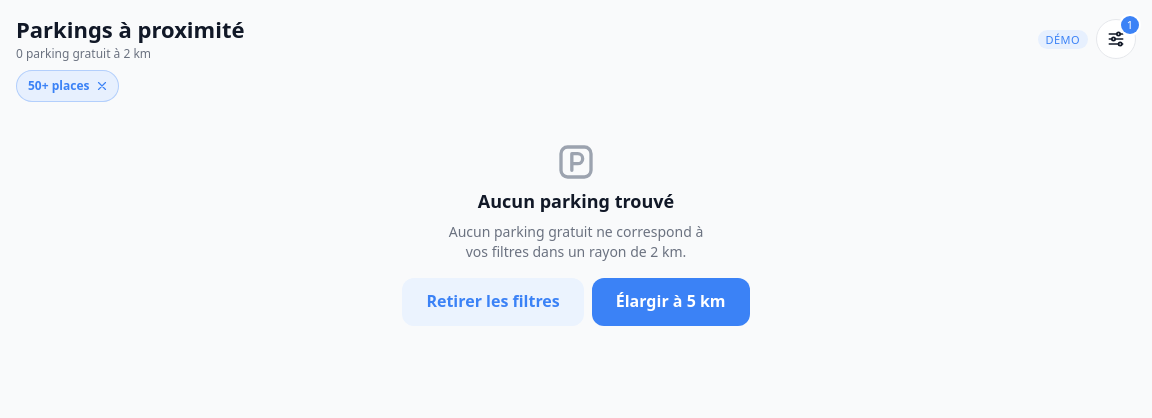
Scenario: ListPage › sans résultat, propose de retirer les filtres ou d’élargir le rayon
Expected: the heading "Aucun parking trouvé" is shown, [478,190,674,214]
Expected: the button "Retirer les filtres" is shown, [402,278,584,326]
Click the button "Élargir à 5 km": {"x": 671, "y": 302} [592,278,750,326]
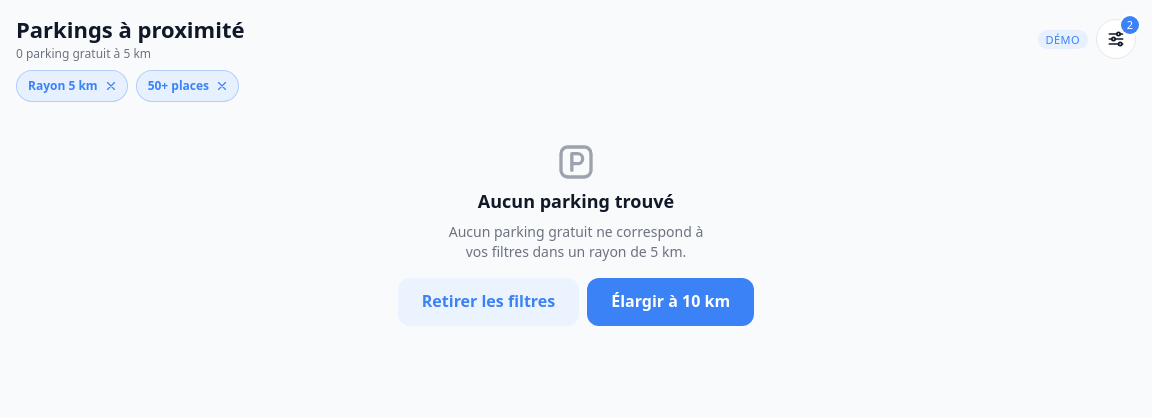
Result: the text "0 parking gratuit à 5 km" is shown at [16,44,151,62]
Click the button "Retirer les filtres": {"x": 488, "y": 302} [398,278,579,326]
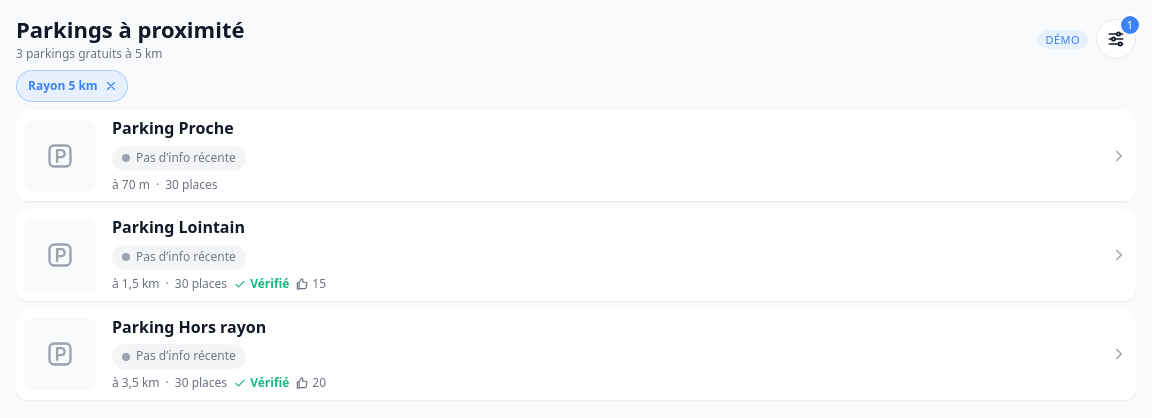
Result: the text "3 parkings gratuits à 5 km" is shown at [16,44,163,62]
